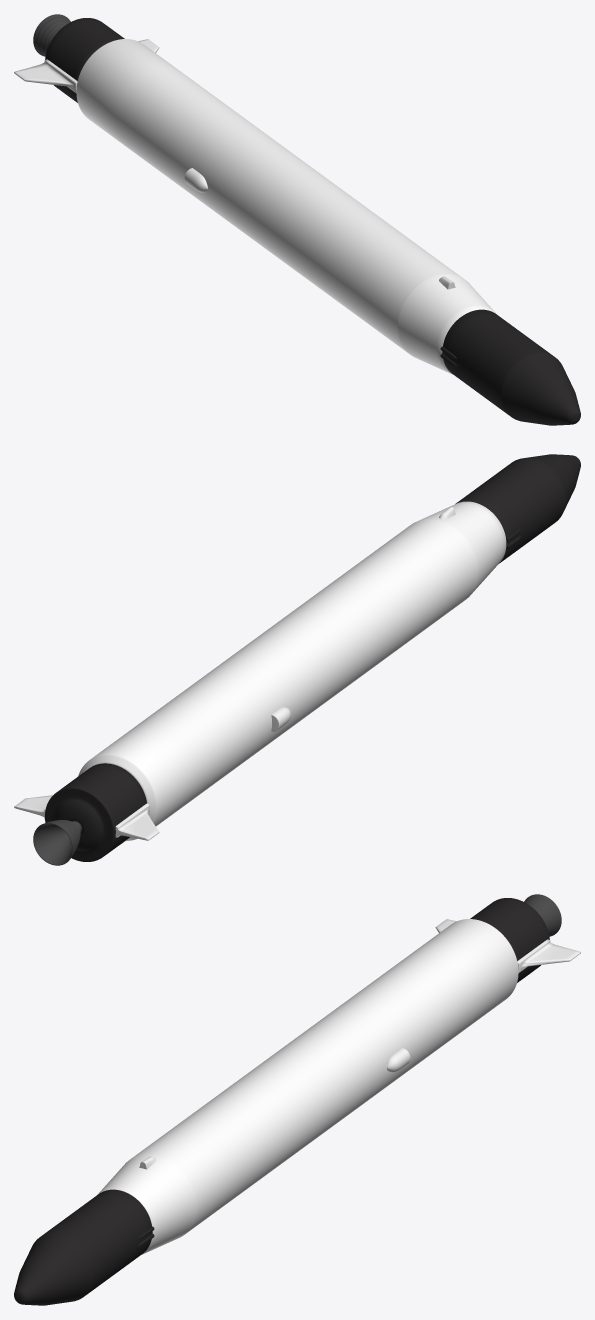
The model's file is 12216_rocket_v1_l2.obj.
3 views of the same model, one above another, from view 1: azimuth 30°, elevation 25°; view 2: azimuth 150°, elevation 25°; view 3: azimuth 330°, elevation 25° (orthographic).
Visible parts, largest first — view 1: rocket_body, rocket_body_2, rocket_detail, rocket_motor; view 2: rocket_body, rocket_body_2, rocket_detail, rocket_motor; view 3: rocket_body, rocket_body_2, rocket_detail, rocket_motor.
Part boxes in pixels (bbox=[...]): rocket_body: bbox=[76, 39, 497, 374]; rocket_body_2: bbox=[45, 18, 580, 425]; rocket_detail: bbox=[14, 39, 455, 289]; rocket_motor: bbox=[33, 14, 70, 56]; rocket_body: bbox=[78, 501, 506, 840]; rocket_body_2: bbox=[45, 454, 580, 861]; rocket_detail: bbox=[14, 507, 455, 844]; rocket_motor: bbox=[33, 820, 81, 865]; rocket_body: bbox=[97, 919, 518, 1254]; rocket_body_2: bbox=[14, 898, 549, 1305]; rocket_detail: bbox=[139, 919, 580, 1169]; rocket_motor: bbox=[524, 894, 561, 936].
Bounding box in the file's own units: 205 × 135 × 1372.
4 materials, 1 textured.
